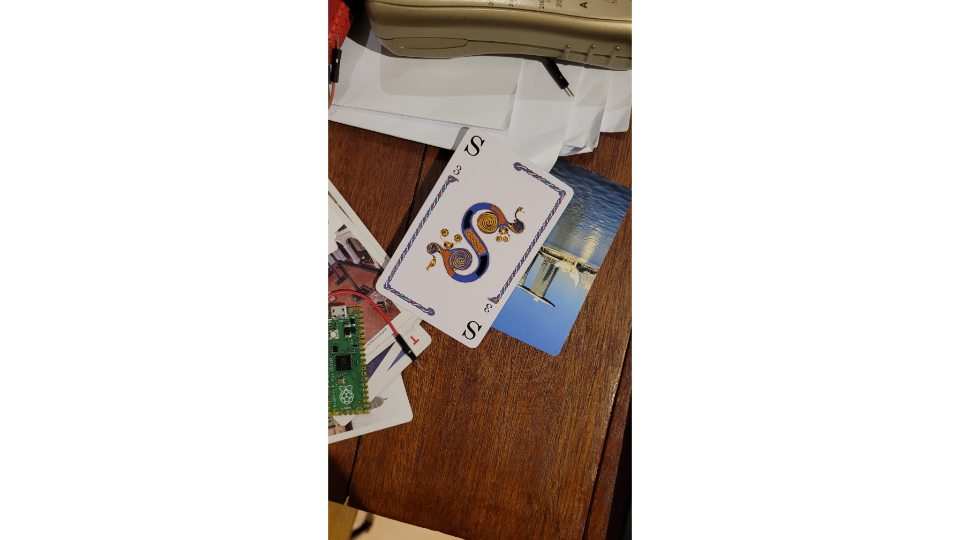S: (372, 123, 578, 352)
